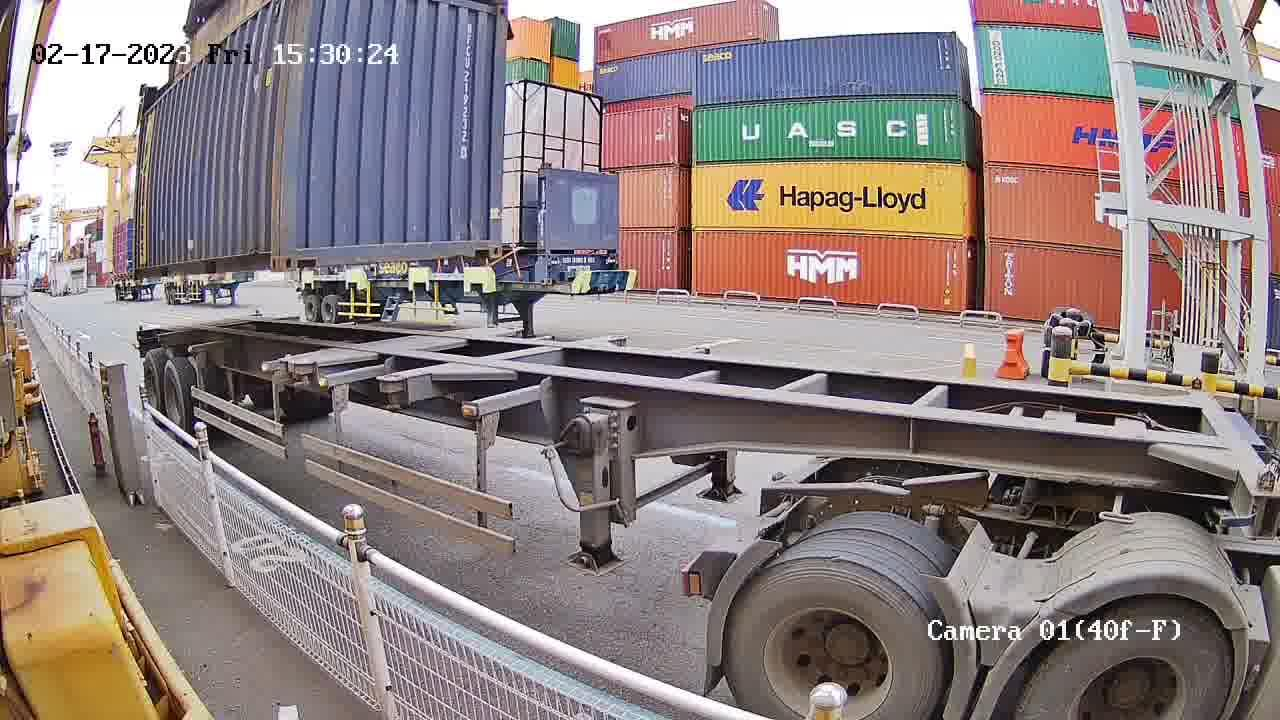Chassis: (293, 327, 523, 365), (264, 326, 491, 360)
Cone: (266, 360, 288, 390), (292, 359, 312, 389)
Hole_L: (281, 236, 315, 271)
Hole_R: (256, 240, 281, 273), (475, 230, 502, 257)
Tire: (162, 360, 188, 442), (141, 351, 162, 425)
